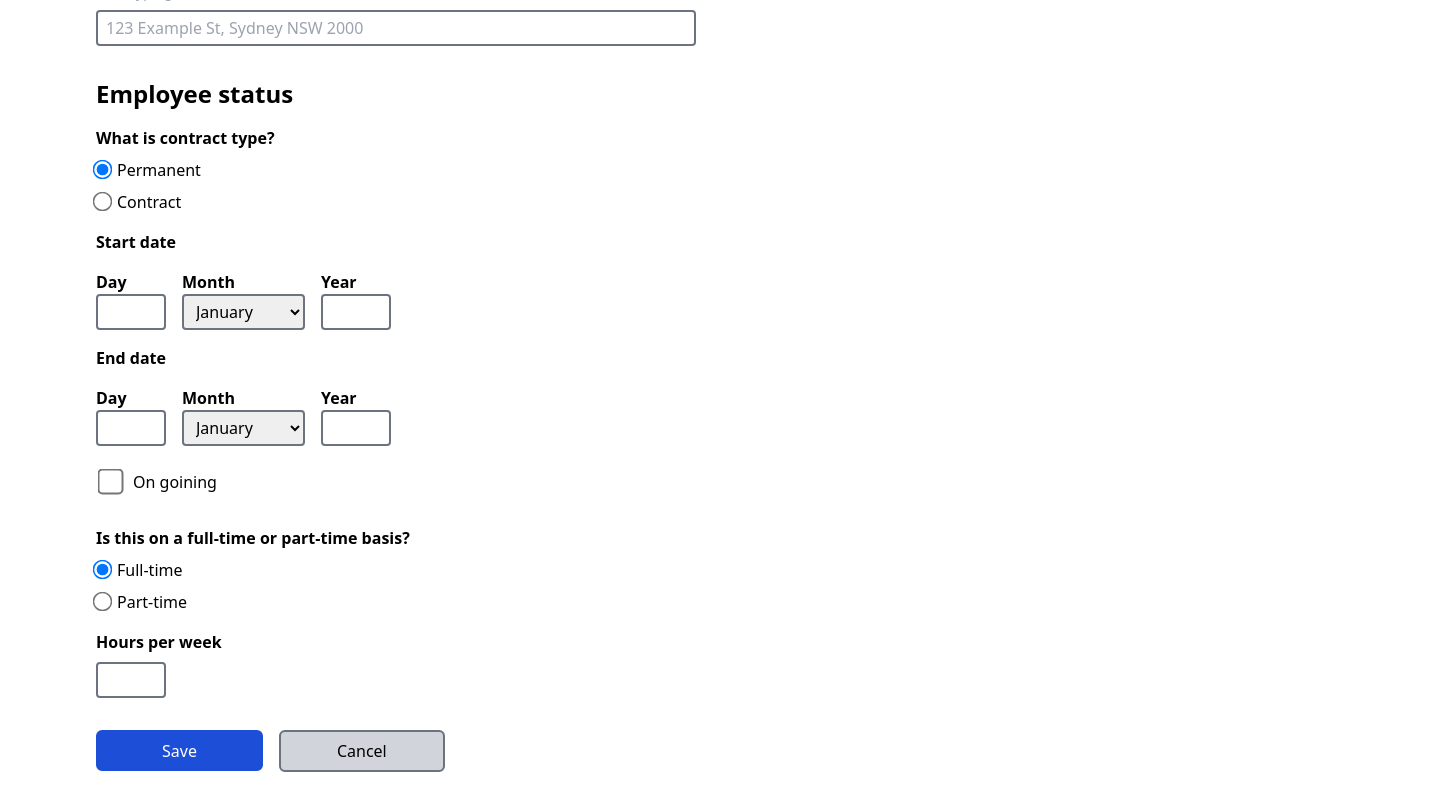
EmployeeAdd Component Tests › should have required fields errors when no values are in and form is submitted
(page scrolled)
Click the button "Save" at (179, 750), box left=96, top=730, right=263, bottom=771
(page scrolled)
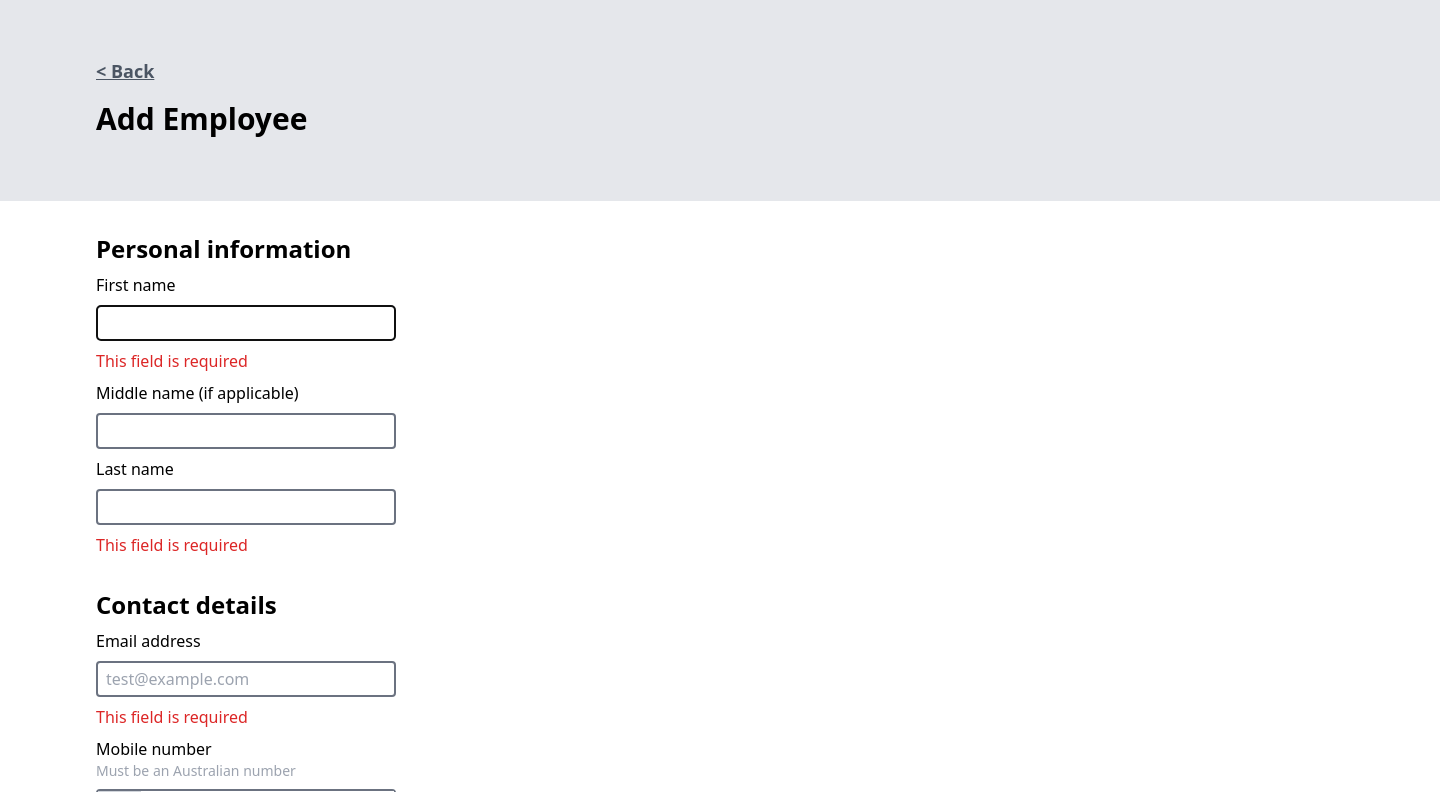
Expected: the text "This field is required" is shown 6 times
